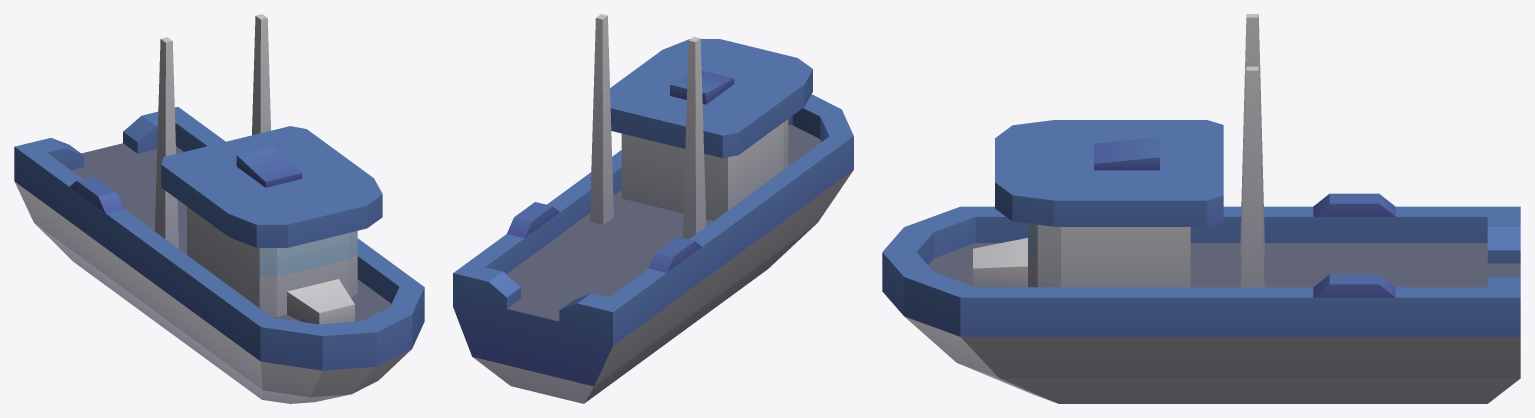
Rendered from fishingBoat.glb.
The picture shows the model from 3 angles, left to right: view 1: azimuth 30°, elevation 25°; view 2: azimuth 150°, elevation 25°; view 3: azimuth 270°, elevation 25°; orthographic projection. The views are drawn at different scales.
Parts seen in each view (by area): view 1: fishingBoat; view 2: fishingBoat; view 3: fishingBoat.
Part boxes in pixels (left/top/right/bottom): fishingBoat: left=14, top=14, right=424, bottom=403; fishingBoat: left=453, top=14, right=853, bottom=403; fishingBoat: left=882, top=14, right=1520, bottom=403.
Size of the model in its own units: 3.2 by 5.6 by 9.5.
